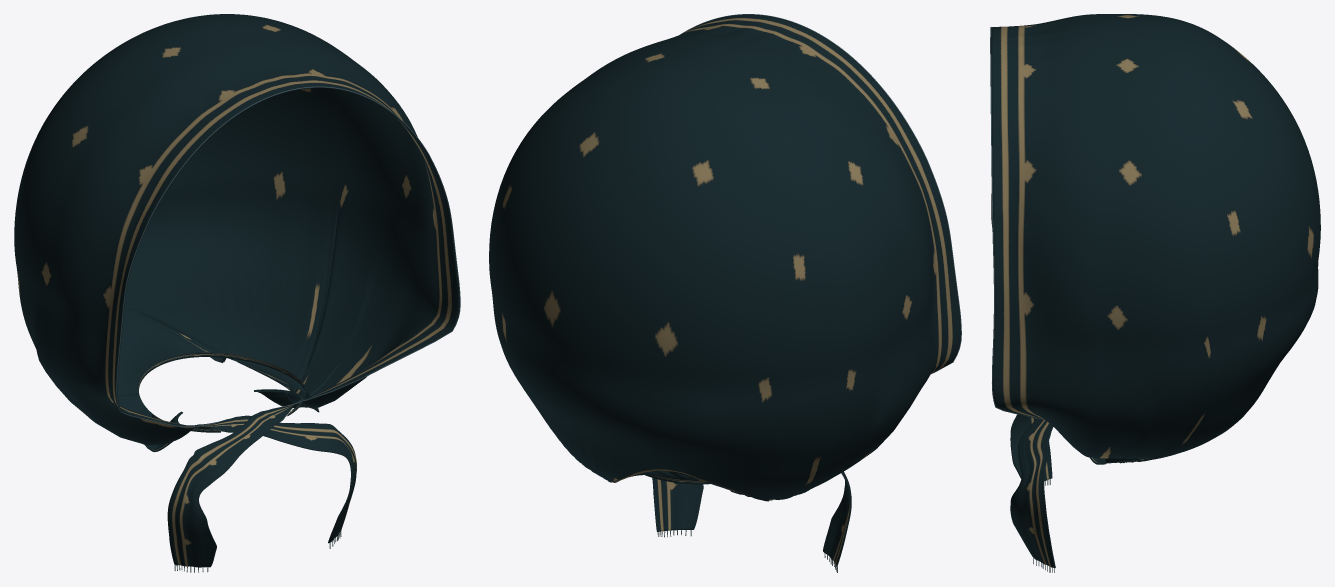
The model's file is Feminine-Feminine-ponytail-tshirt-pashmina251-headgear-bd01fb6c.glb.
3 views of the same model, side by side, from view 1: azimuth 30°, elevation 25°; view 2: azimuth 150°, elevation 25°; view 3: azimuth 270°, elevation 25° (orthographic). The views are drawn at different scales.
Visible parts, largest first — view 1: 226 headgear / Headwear / continuous woven pashmina239, 226 headgear / Headwear / face edge239; view 2: 226 headgear / Headwear / continuous woven pashmina239, 226 headgear / Headwear / face edge239; view 3: 226 headgear / Headwear / continuous woven pashmina239, 226 headgear / Headwear / face edge239.
Boxes of the visible parts, x1,y1,x2,y2 form: 226 headgear / Headwear / continuous woven pashmina239: (14,14,459,567); 226 headgear / Headwear / face edge239: (116,86,460,427); 226 headgear / Headwear / continuous woven pashmina239: (489,14,960,566); 226 headgear / Headwear / face edge239: (680,14,961,373); 226 headgear / Headwear / continuous woven pashmina239: (991,14,1320,568); 226 headgear / Headwear / face edge239: (990,27,1044,419).
Size of the model in its own units: 1.07 by 1.4 by 0.8393.
Materials: 3 (1 with a texture image).
